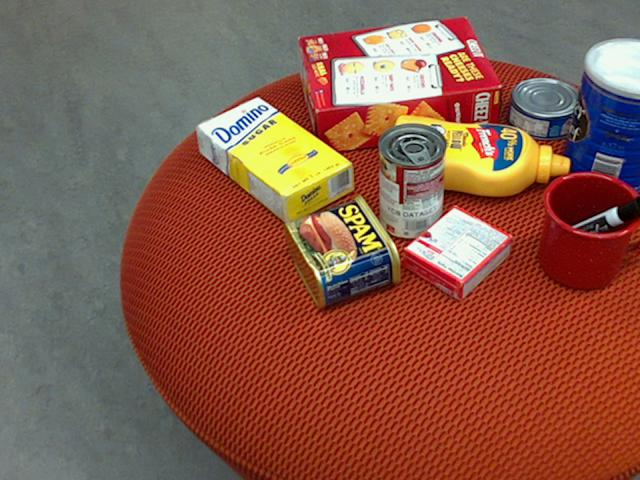cracker_box: (297, 16, 500, 153)
gelatin_box: (401, 207, 513, 302)
large_marker: (542, 194, 639, 253)
master_chef_can: (558, 38, 639, 202)
mug: (538, 170, 639, 289)
mustard_bottle: (386, 114, 568, 196)
potted_meat_can: (282, 193, 401, 308)
sugar_box: (194, 95, 353, 226)
tomato_soup_can: (377, 120, 445, 238)
tuna_fish_can: (505, 76, 581, 138)
